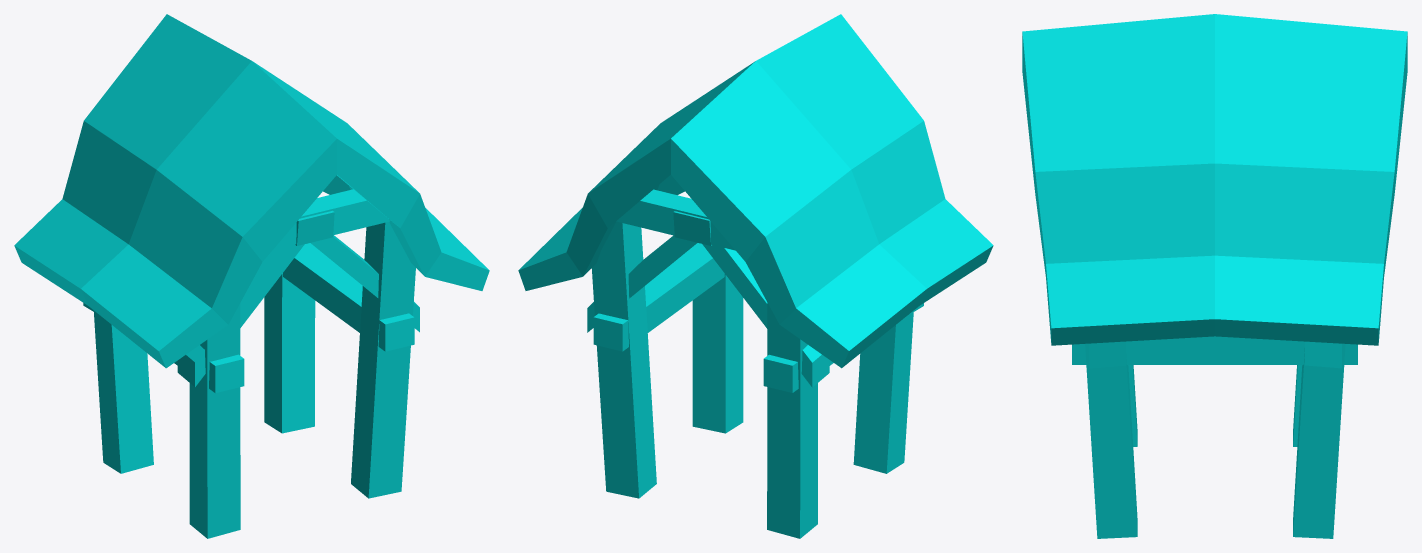
Rendered from SM_Bld_Roof_Thatch_Preset_S_02_Collision.fbx.
3 renders of one model, left to right at view 1: azimuth 30°, elevation 25°; view 2: azimuth 150°, elevation 25°; view 3: azimuth 270°, elevation 25°, orthographic. The views are drawn at different scales.
Parts seen in each view (by area): view 1: SM_Bld_Roof_Thatch_Preset_S_02_Collision; view 2: SM_Bld_Roof_Thatch_Preset_S_02_Collision; view 3: SM_Bld_Roof_Thatch_Preset_S_02_Collision.
Part boxes in pixels (x1=…): SM_Bld_Roof_Thatch_Preset_S_02_Collision: x1=14, y1=14, x2=489, y2=538; SM_Bld_Roof_Thatch_Preset_S_02_Collision: x1=518, y1=14, x2=993, y2=538; SM_Bld_Roof_Thatch_Preset_S_02_Collision: x1=1022, y1=14, x2=1407, y2=538.
Size of the model in its own units: 588 by 684 by 507.
